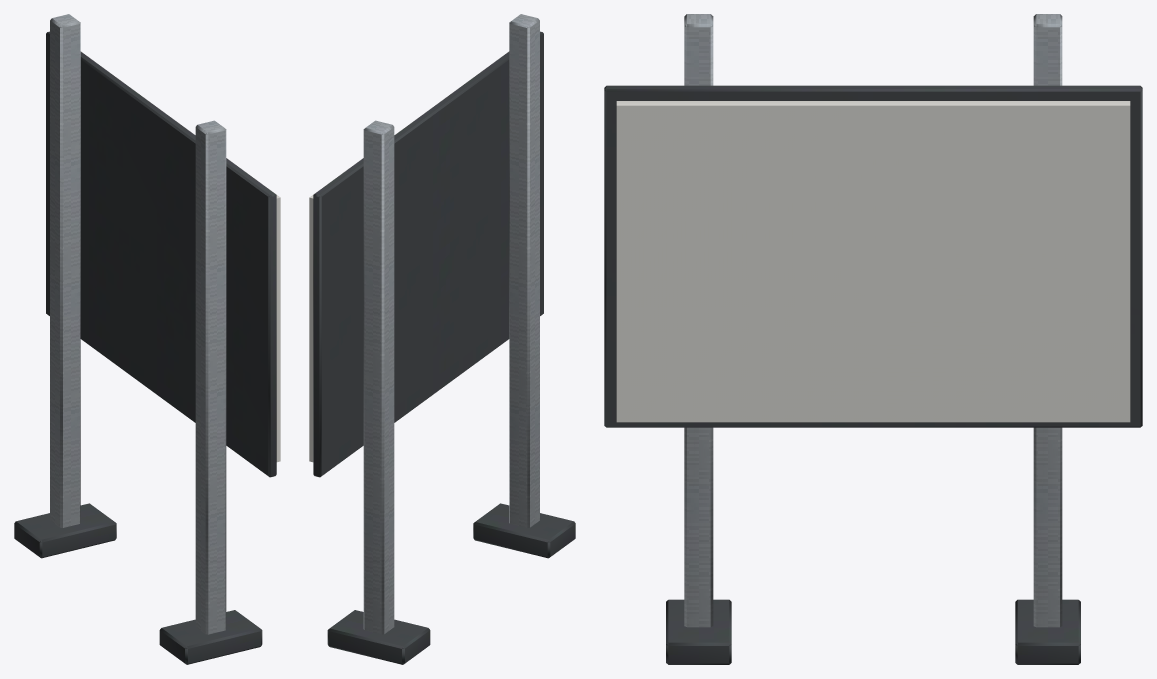
The model's file is zone-board_high.glb.
3 renders of one model, left to right at view 1: azimuth 30°, elevation 25°; view 2: azimuth 150°, elevation 25°; view 3: azimuth 270°, elevation 25°, orthographic. The views are drawn at different scales.
Parts seen in each view (by area): view 1: dark-steel, galvanised, board-face; view 2: dark-steel, galvanised, board-face; view 3: board-face, dark-steel, galvanised.
Boxes of the visible parts, bbox=[...] form: dark-steel: bbox=[14, 31, 276, 664]; galvanised: bbox=[50, 14, 226, 634]; board-face: bbox=[81, 51, 280, 462]; dark-steel: bbox=[313, 31, 575, 664]; galvanised: bbox=[363, 14, 539, 634]; board-face: bbox=[309, 51, 508, 462]; board-face: bbox=[616, 101, 1130, 422]; dark-steel: bbox=[604, 85, 1142, 664]; galvanised: bbox=[684, 14, 1062, 627].
Bounding box in the file's own units: 0.26 × 1.68 × 1.31.
Materials: 3 (2 with a texture image).
